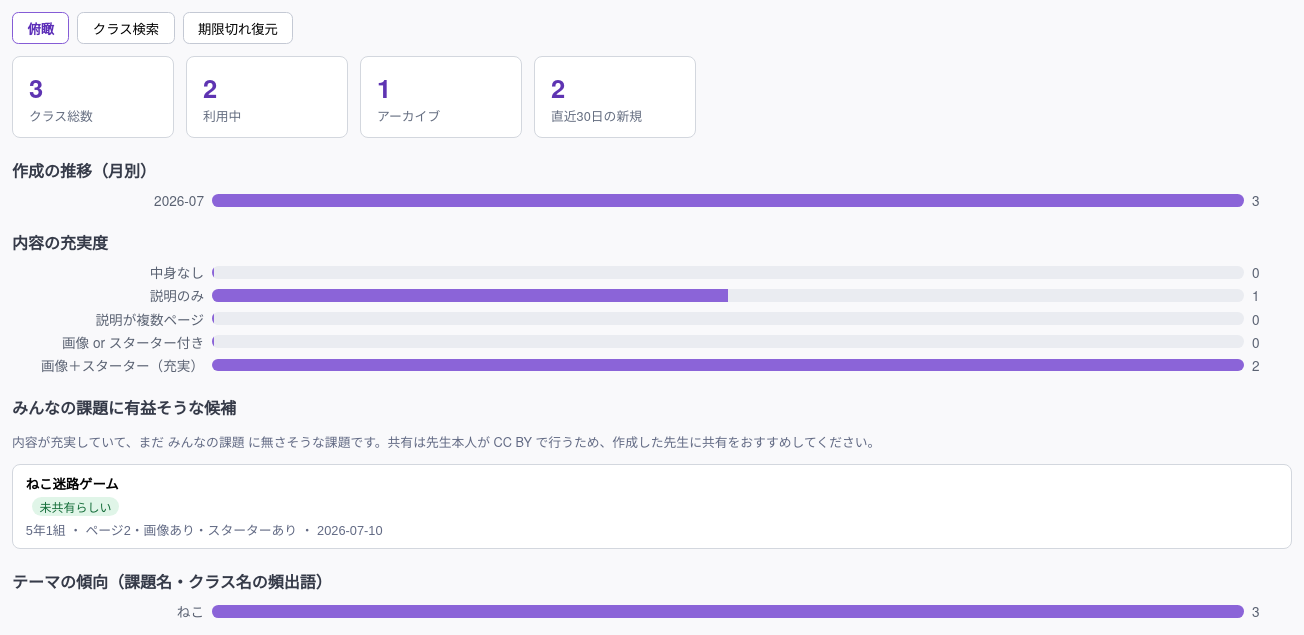
ClassroomsView (issue #1084 + 俯瞰 #1106) › opening a dashboard candidate shows its live classroom detail
Click the button with test id "overview-candidate-c1". click: point(72, 485)
box: 12,464 -> 1292,549
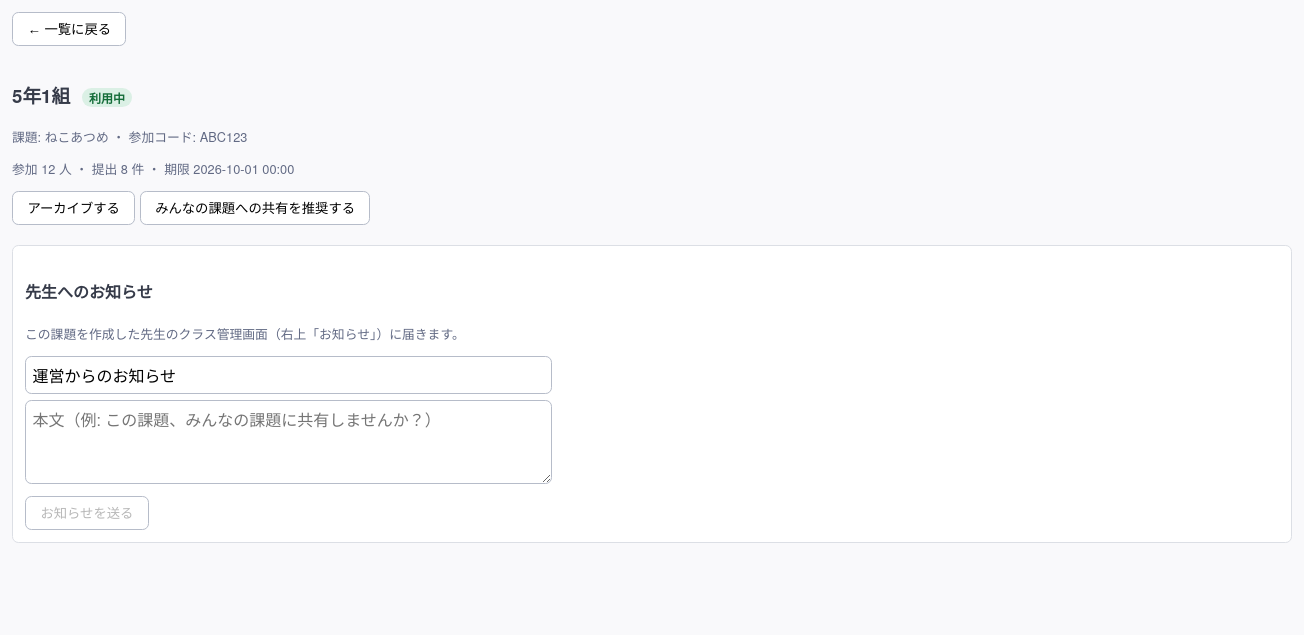
Expected: the element with test id "classroom-admin-detail" is shown
